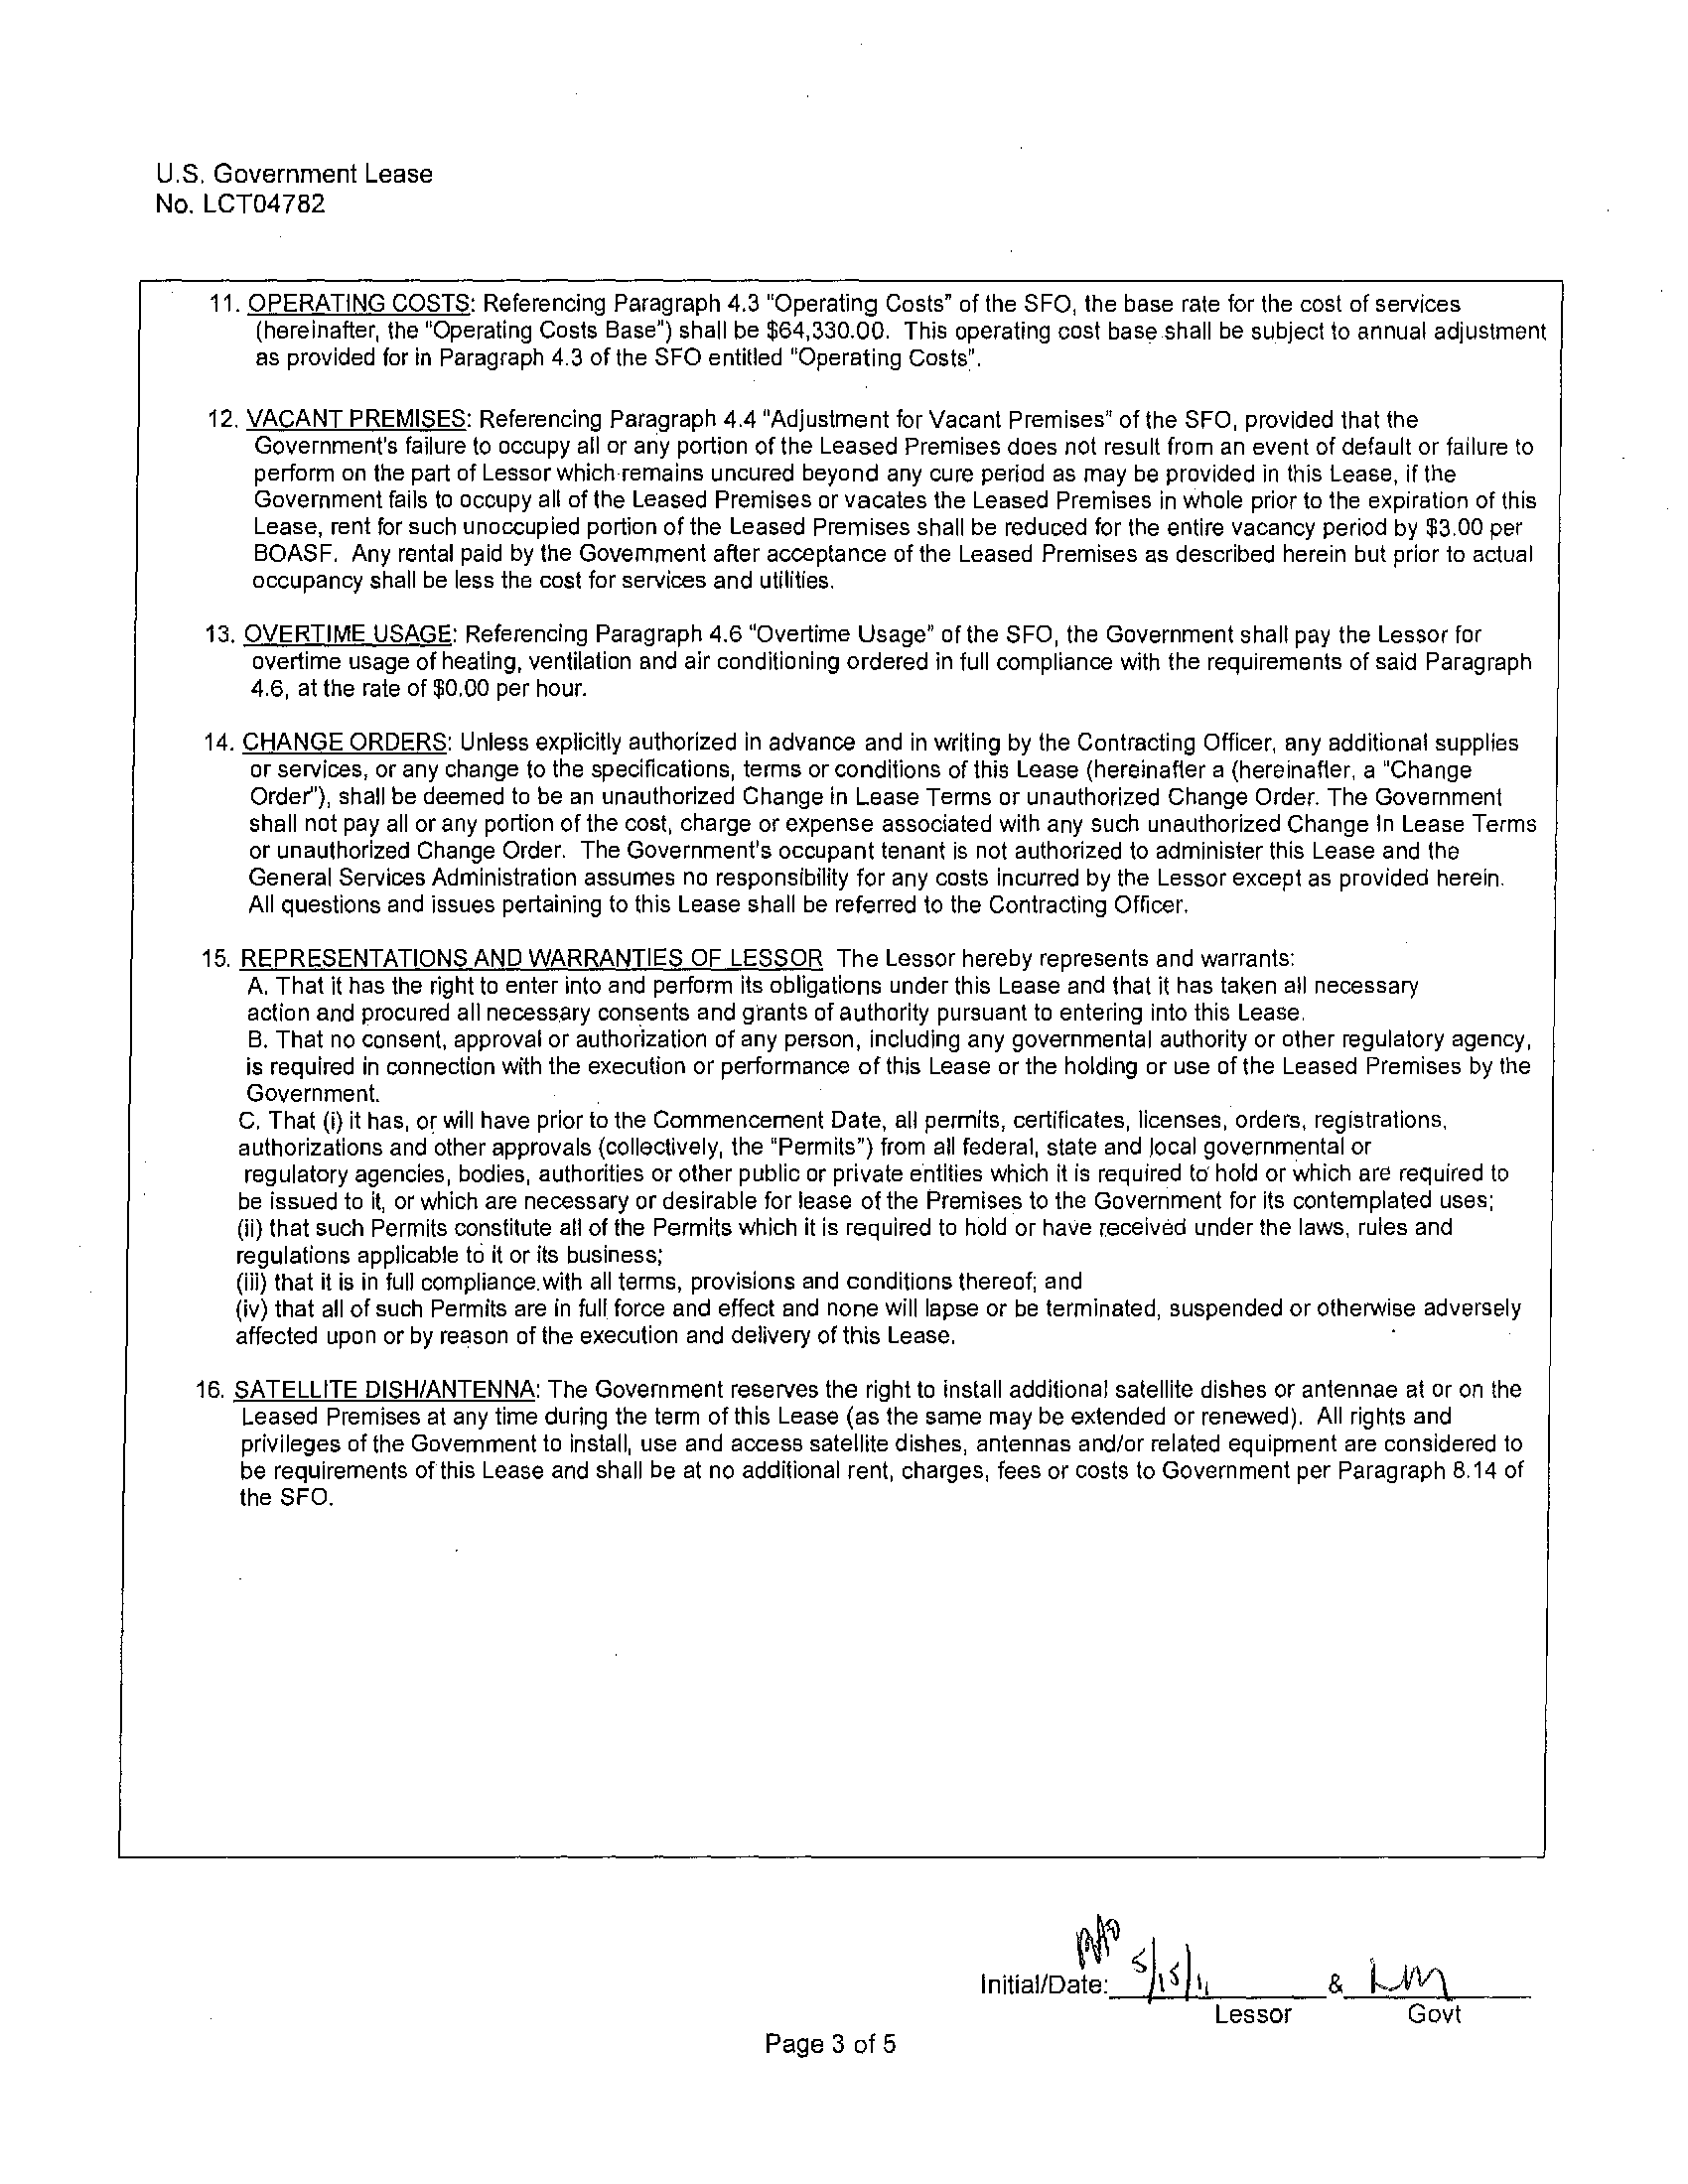handwritten: (1067, 1884, 1255, 1994), (1353, 1929, 1463, 2001)
